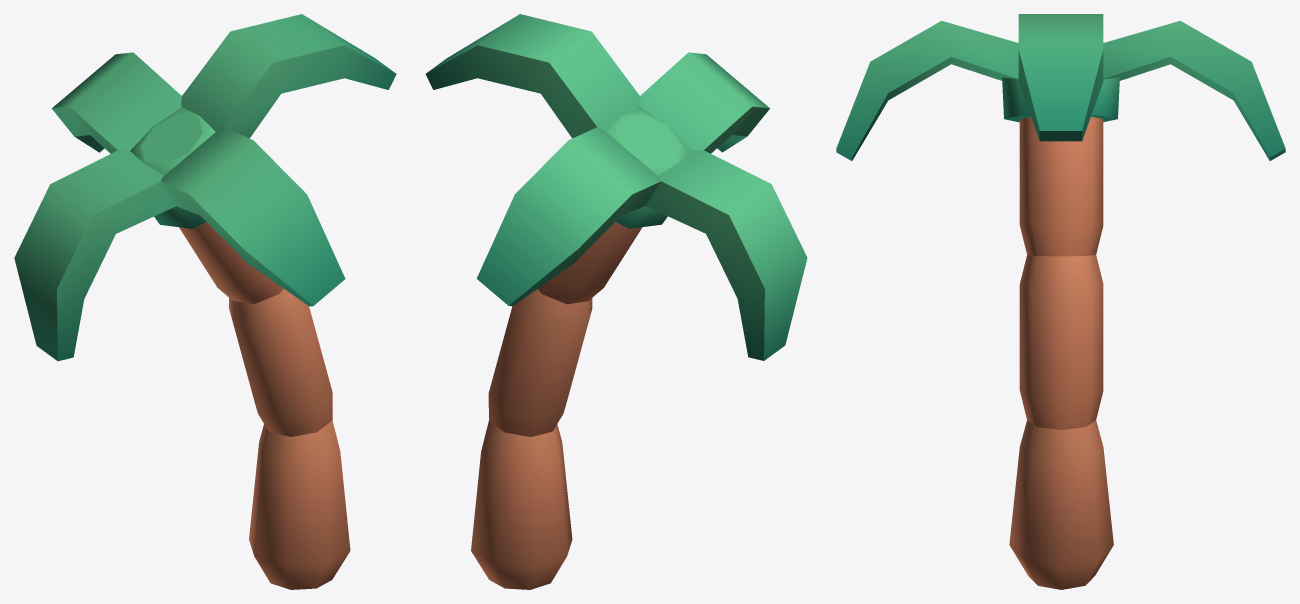
File: kenney-pirate-palm-bend.glb
The picture shows the model from 3 angles, left to right: view 1: azimuth 30°, elevation 25°; view 2: azimuth 150°, elevation 25°; view 3: azimuth 270°, elevation 25°; orthographic projection.
Visible parts, largest first — view 1: palm-bend; view 2: palm-bend; view 3: palm-bend.
Part boxes in pixels (x1=…): palm-bend: x1=14, y1=14, x2=396, y2=589; palm-bend: x1=425, y1=14, x2=807, y2=589; palm-bend: x1=836, y1=14, x2=1285, y2=589.
Bounding box in the file's own units: 2.88 × 4.25 × 3.22.
1 material, 1 textured.
